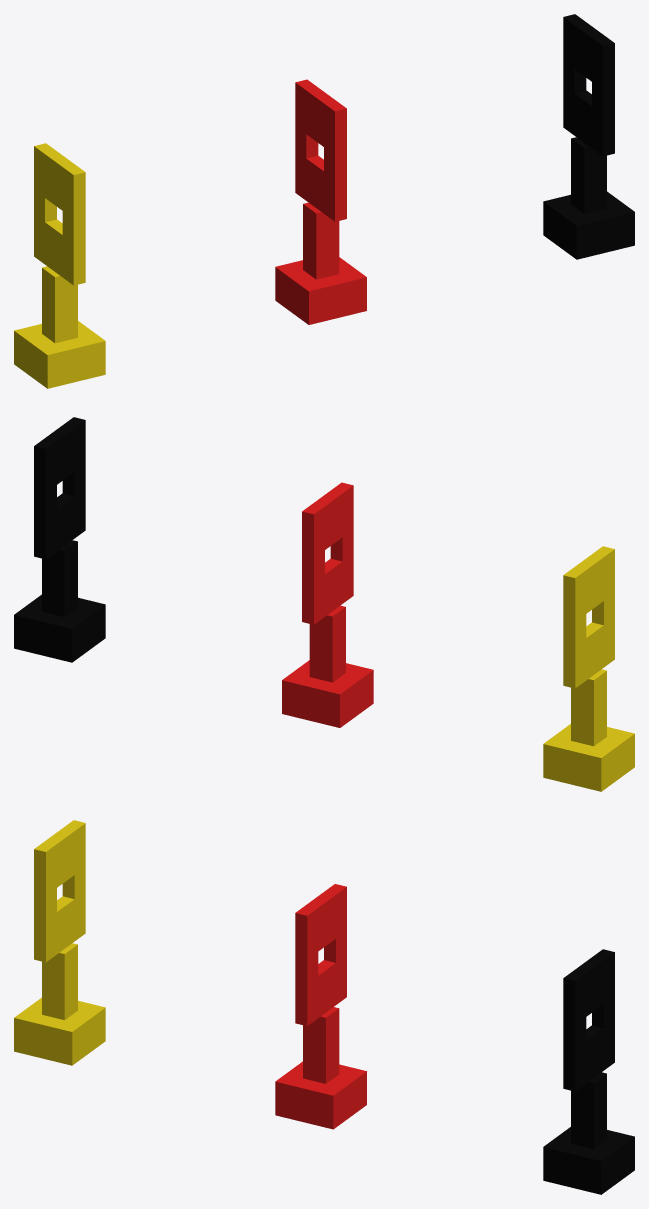
File: KeySet.fbx
The picture shows the model from 3 angles, top to bottom: view 1: azimuth 30°, elevation 25°; view 2: azimuth 150°, elevation 25°; view 3: azimuth 330°, elevation 25°; orthographic projection.
Visible parts, largest first — view 1: Cube.024, Cube.023, Cube.025; view 2: Cube.024, Cube.023, Cube.025; view 3: Cube.024, Cube.025, Cube.023.
Part boxes in pixels (x1=…): Cube.024: x1=275, y1=79, x2=366, y2=324; Cube.023: x1=543, y1=14, x2=634, y2=259; Cube.025: x1=14, y1=143, x2=105, y2=388; Cube.024: x1=282, y1=482, x2=373, y2=727; Cube.023: x1=14, y1=417, x2=105, y2=662; Cube.025: x1=543, y1=546, x2=634, y2=791; Cube.024: x1=275, y1=884, x2=366, y2=1129; Cube.025: x1=14, y1=820, x2=105, y2=1065; Cube.023: x1=543, y1=949, x2=634, y2=1194.
Bounding box in the file's own units: 9.6 × 3.28 × 1.12.
